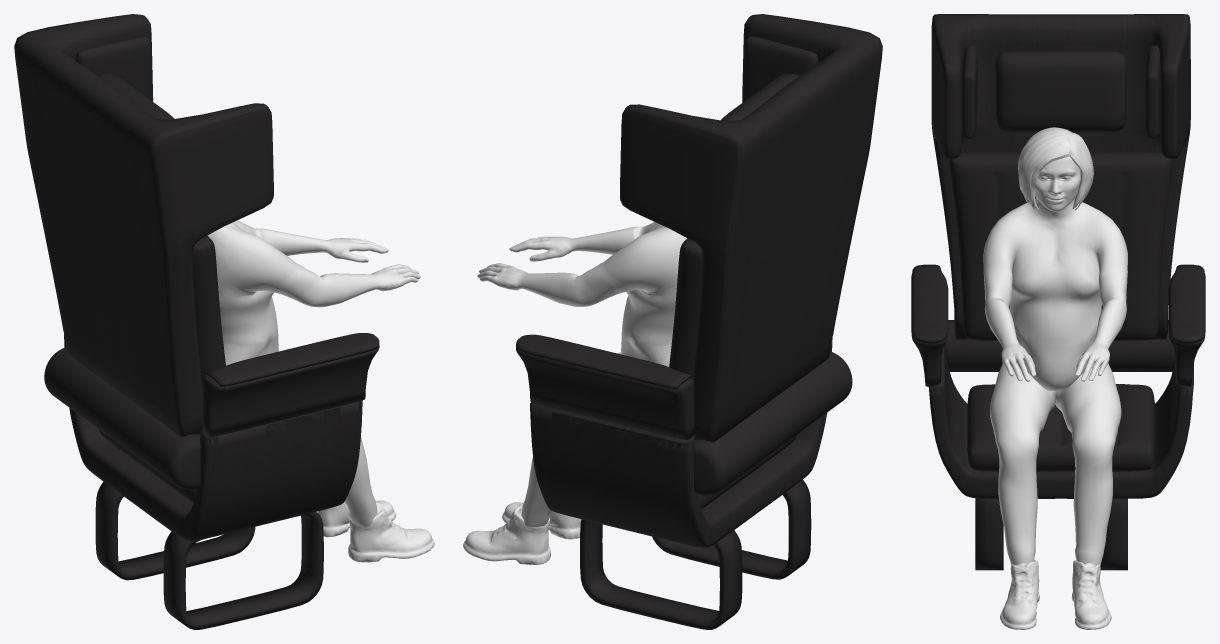
File: seat.glb
3 renders of one model, left to right at view 1: azimuth 30°, elevation 25°; view 2: azimuth 150°, elevation 25°; view 3: azimuth 270°, elevation 25°, orthographic. The views are drawn at different scales.
Visible parts, largest first — view 1: Hinterteil_V1_Final, Unterteil_Final, female_manekin.001, Armauflage_Pads, Armauflage_Verschiebbar.002; view 2: Hinterteil_V1_Final, Unterteil_Final, female_manekin.001, Armauflage_Pads, Armauflage_Verschiebbar.002; view 3: Hinterteil_V1_Final, female_manekin.001, Unterteil_Final, Armauflage_Verschiebbar.002, Armauflage_Pads.
Part boxes in pixels (left/top/right/bottom): Hinterteil_V1_Final: left=14, top=14, right=273, bottom=489; Unterteil_Final: left=64, top=334, right=362, bottom=629; female_manekin.001: left=207, top=220, right=434, bottom=562; Armauflage_Pads: left=203, top=346, right=379, bottom=436; Armauflage_Verschiebbar.002: left=206, top=333, right=379, bottom=386; Hinterteil_V1_Final: left=620, top=14, right=882, bottom=495; Unterteil_Final: left=530, top=337, right=832, bottom=629; female_manekin.001: left=463, top=222, right=686, bottom=564; Armauflage_Pads: left=516, top=333, right=833, bottom=439; Armauflage_Verschiebbar.002: left=516, top=334, right=691, bottom=389; Hinterteil_V1_Final: left=931, top=14, right=1190, bottom=371; female_manekin.001: left=983, top=127, right=1127, bottom=629; Unterteil_Final: left=928, top=343, right=1193, bottom=570; Armauflage_Verschiebbar.002: left=912, top=264, right=1204, bottom=343; Armauflage_Pads: left=911, top=273, right=1205, bottom=386.
Bounding box in the file's own units: 0.9694 × 1.5 × 0.8255.
1 material, 1 textured.
